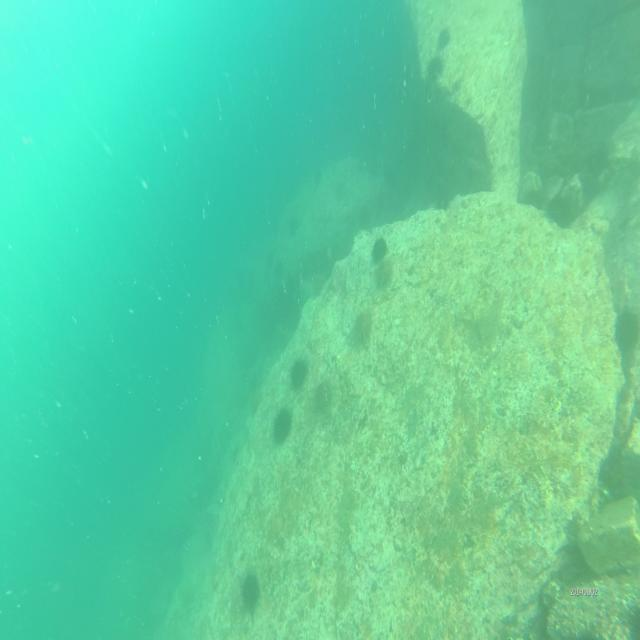echinus: (351, 306, 373, 348), (271, 407, 292, 446), (425, 50, 445, 90), (240, 573, 260, 613), (373, 255, 393, 293), (291, 356, 310, 396), (367, 234, 389, 263), (311, 374, 328, 408), (270, 255, 290, 282), (329, 177, 347, 206), (435, 24, 453, 52), (286, 214, 300, 235)
